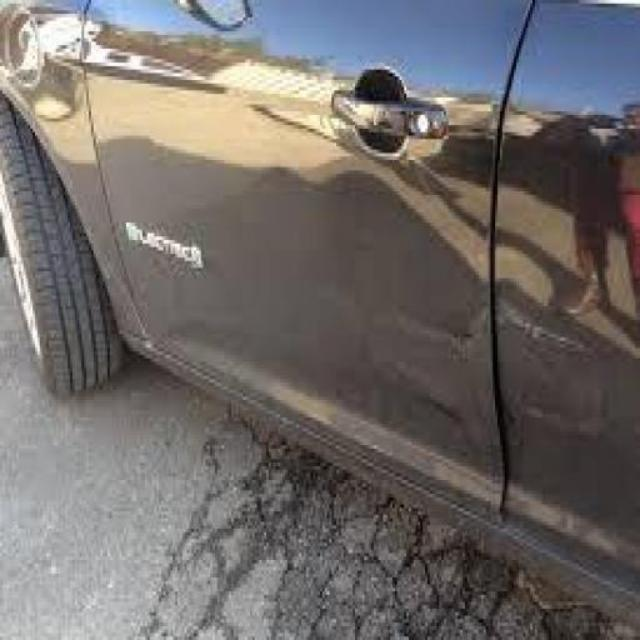rub: (365, 283, 612, 454)
